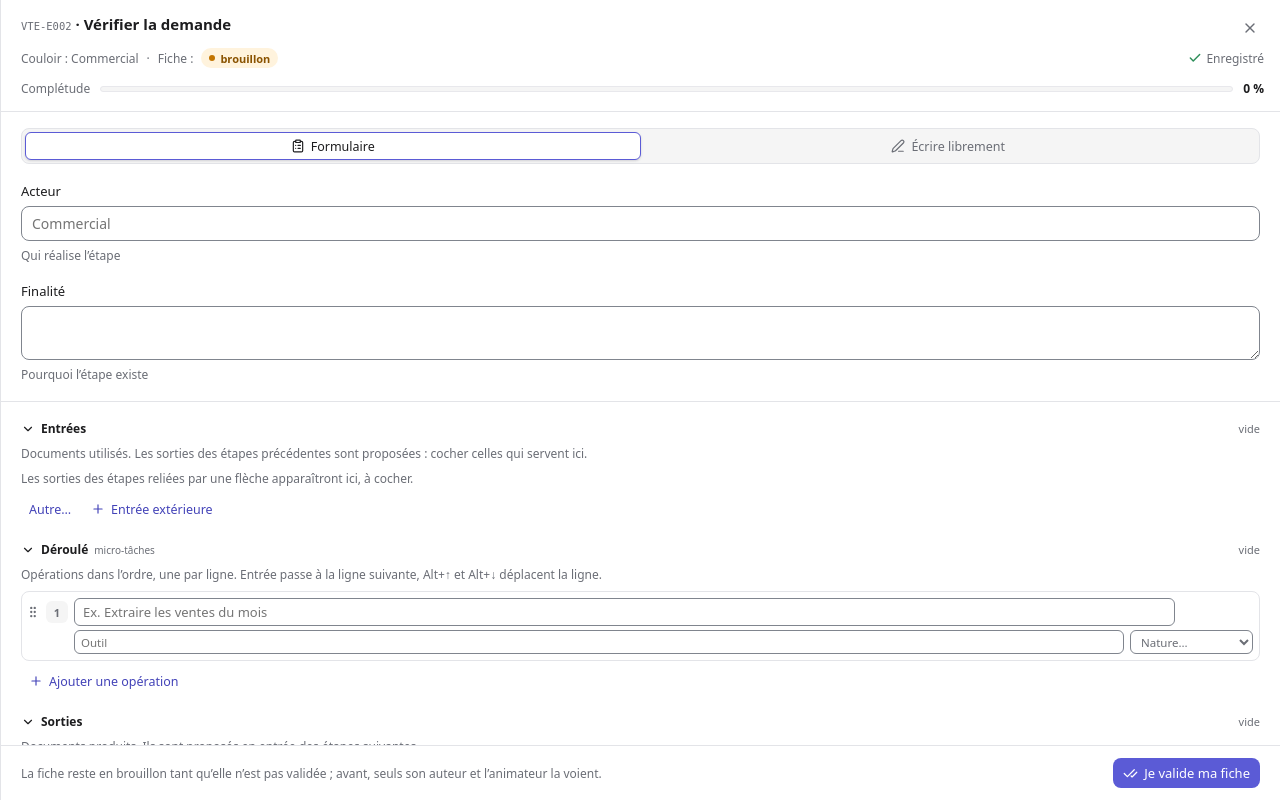
Test: the validation (B-4-51 to B-4-53) › saves what waits first, then validates with the version given back; the sheet validated is shown and said
Type "Facturer" into the text box with test id "sheet-purpose" at [640, 333], box top-left (21, 306), bottom-right (1260, 360)
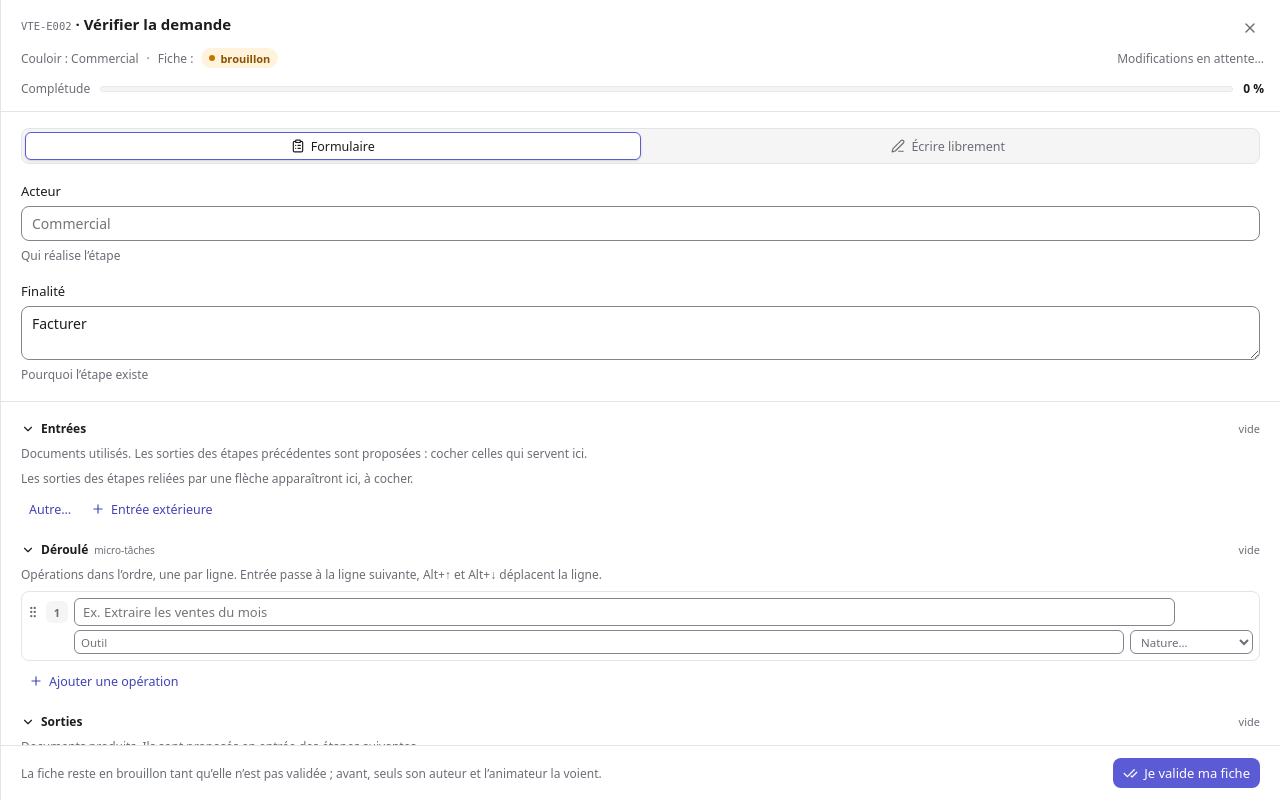
Click the button "Je valide ma fiche" at [1187, 773], box top-left (1113, 758), bottom-right (1260, 788)
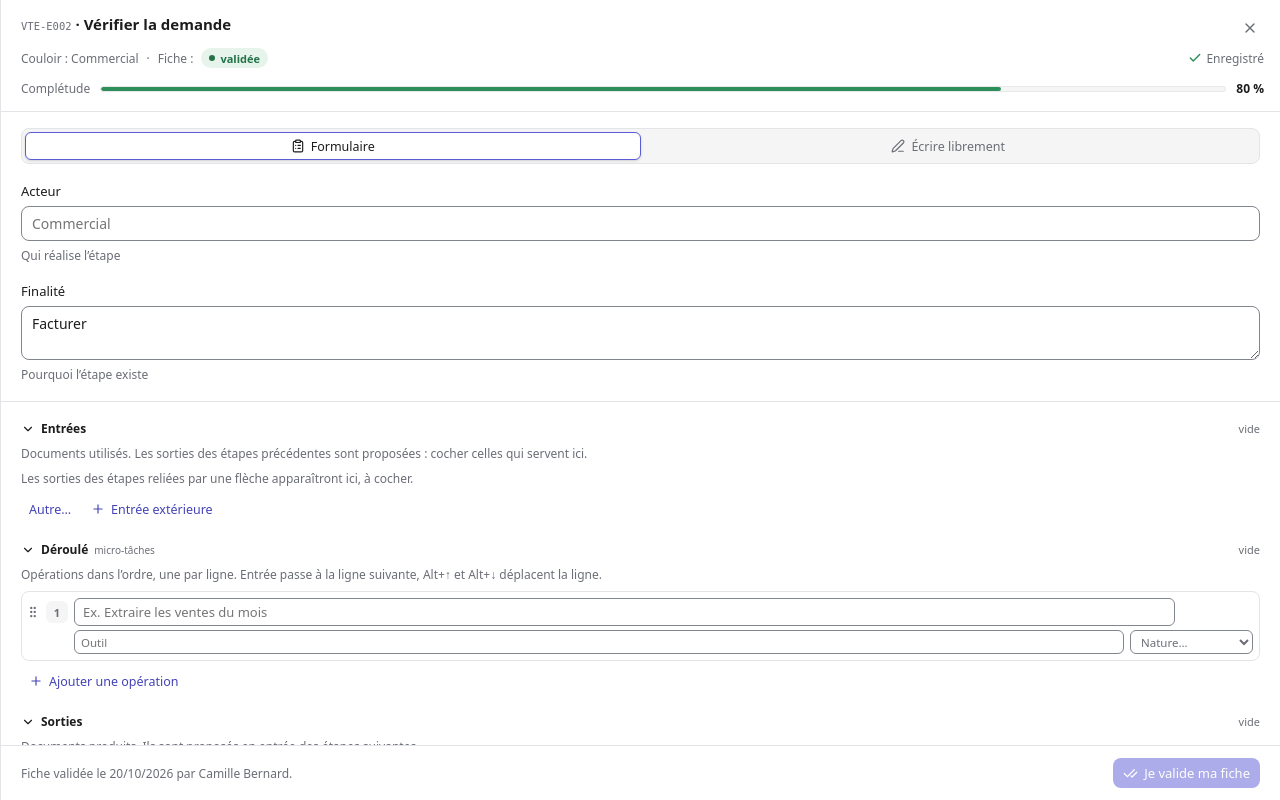
Expected: the text with test id "sheet-state" reads "validée", top-left (220, 50), bottom-right (260, 66)
